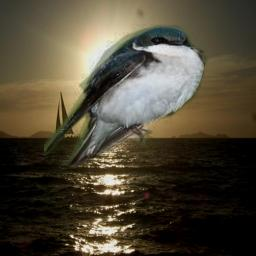Swallow: (44, 21, 209, 167)
